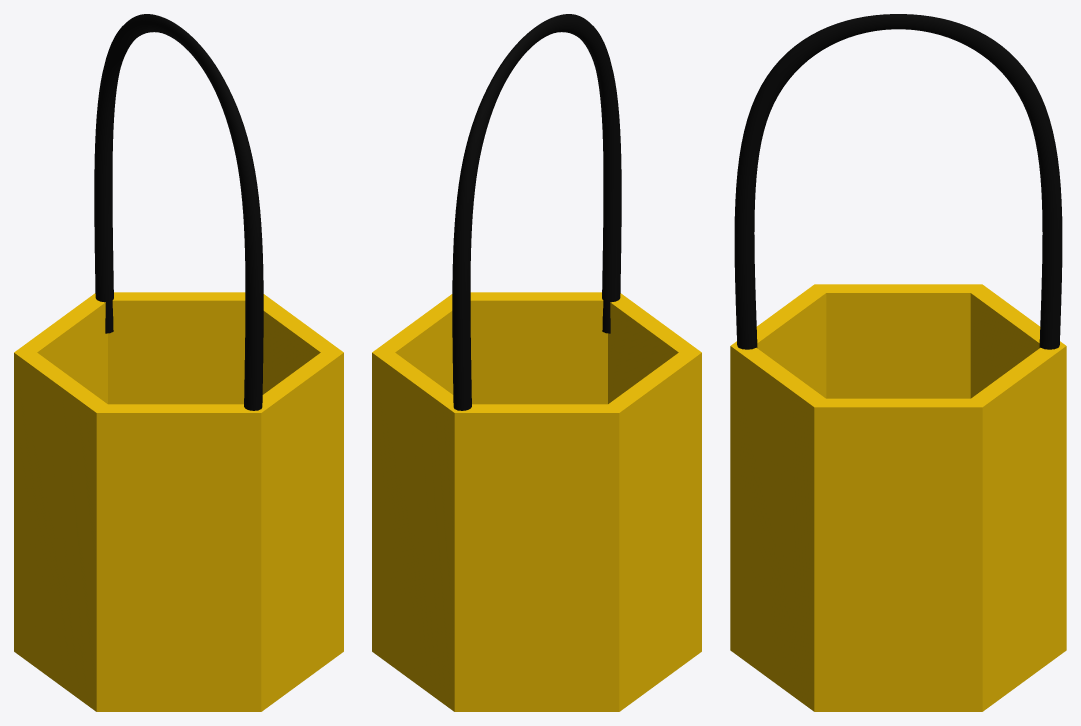
File: HoneyBox.fbx
3 renders of one model, left to right at view 1: azimuth 30°, elevation 25°; view 2: azimuth 150°, elevation 25°; view 3: azimuth 270°, elevation 25°, orthographic.
Visible parts, largest first — view 1: Cylinder; view 2: Cylinder; view 3: Cylinder.
Boxes of the visible parts, box(x1,y1,x2,y2) form: Cylinder: box(14, 14, 343, 711); Cylinder: box(372, 14, 701, 711); Cylinder: box(730, 14, 1066, 711).
Size of the model in its own units: 173 by 418 by 200.
